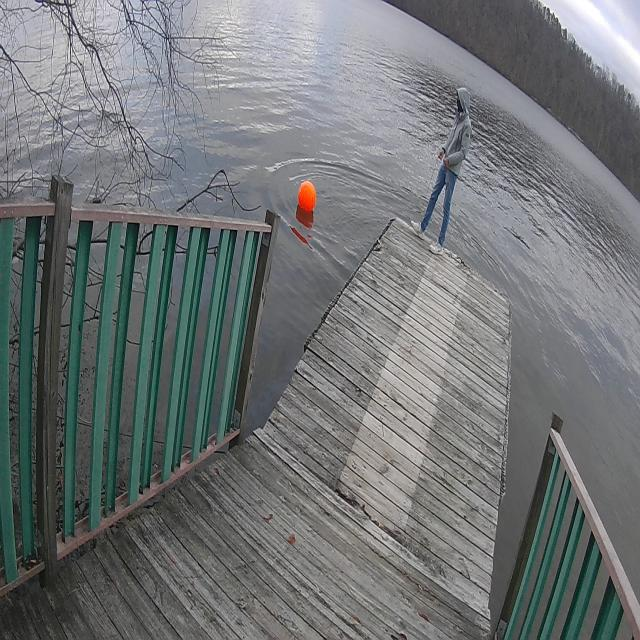Buoy: (292, 174, 322, 224)
